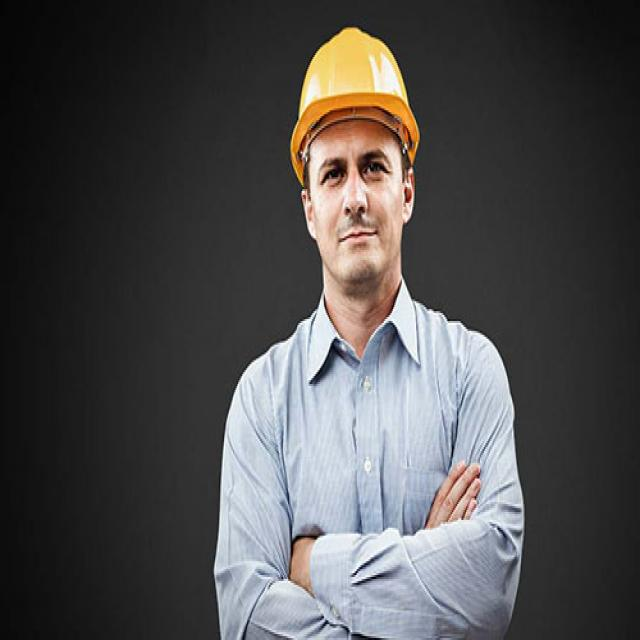Safety-Helmet: (289, 24, 420, 158)
